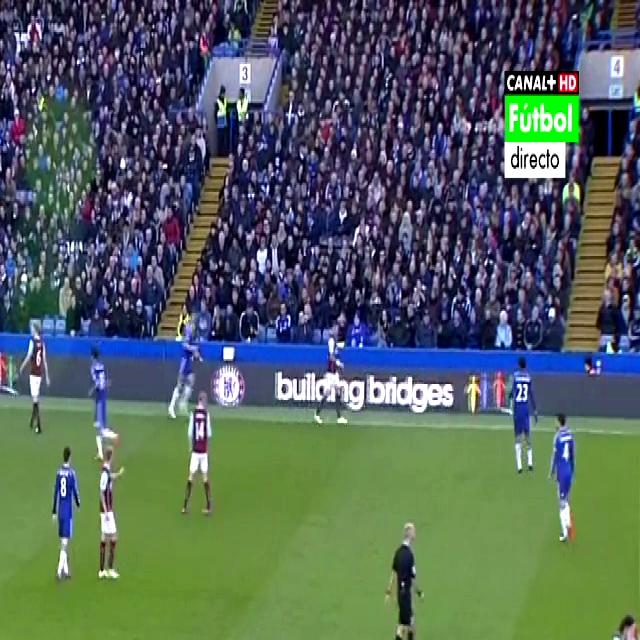referee: (378, 510, 436, 640)
soccer-player: (75, 328, 129, 458), (540, 405, 584, 555), (14, 308, 58, 445), (500, 344, 541, 484), (310, 314, 353, 435), (182, 393, 220, 526), (47, 442, 80, 588), (96, 438, 128, 588), (170, 296, 206, 417), (600, 604, 640, 640)
